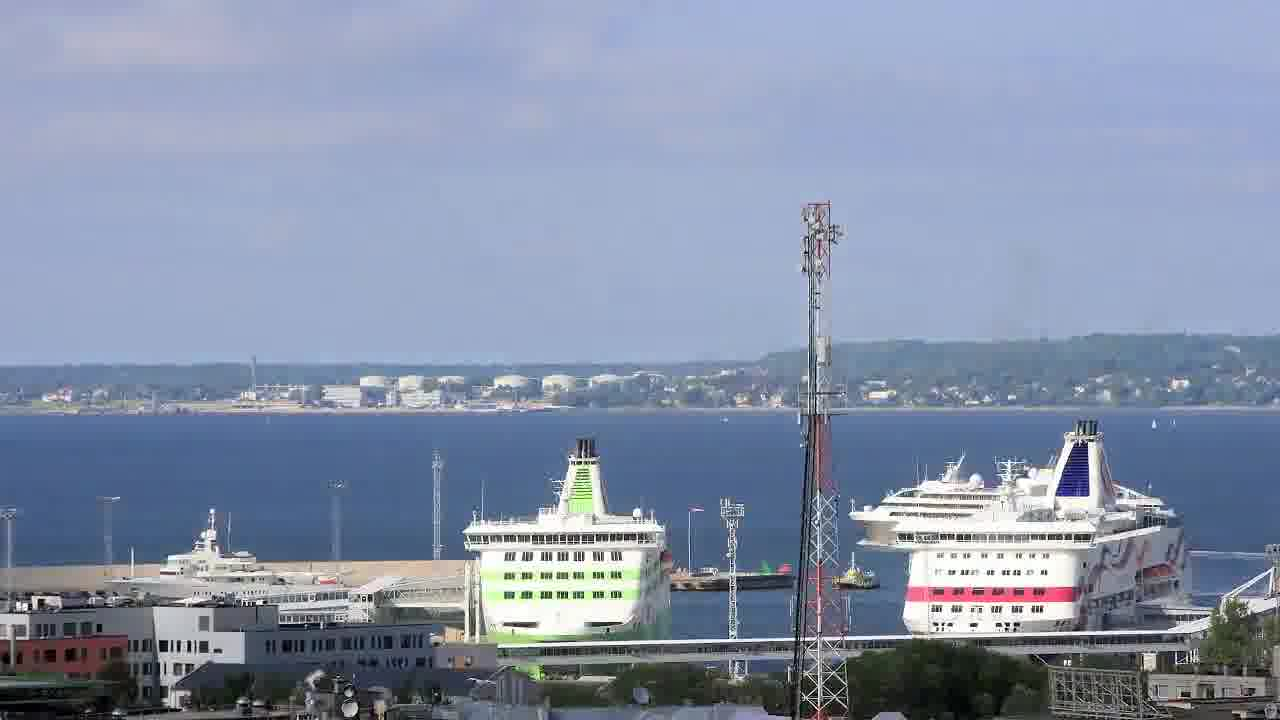type-0: (830, 553, 887, 590)
type-3: (868, 415, 1225, 638), (436, 434, 694, 670), (96, 501, 376, 627), (850, 445, 999, 571)
